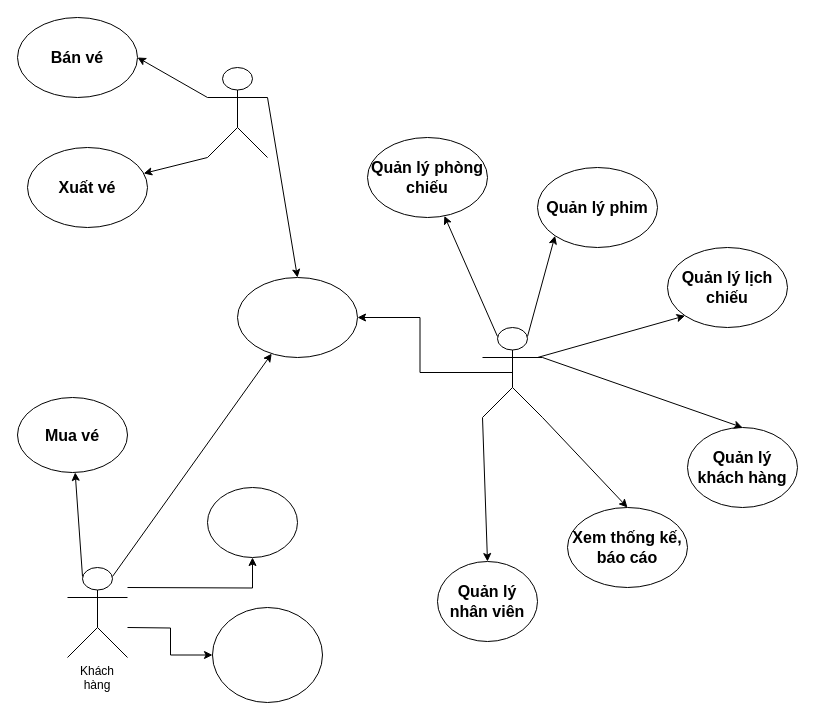
This 815x720 diagram has some shape labels left out. The shapes that lost their labels are listed below. From the top down, each one's centre as x and y in pixels, then its label:
At pixel 237 112: "Nhân viên bán vé".
At pixel 297 317: "Đăng nhập".
At pixel 512 372: "Ban quản lý".
At pixel 252 522: "Đăng kí".
At pixel 267 654: "Quản lý tài khoản cá nhân".
